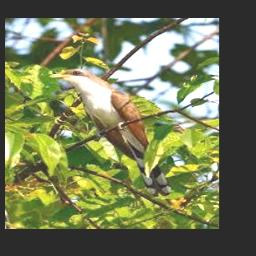Cuckoo: (49, 68, 172, 197)
